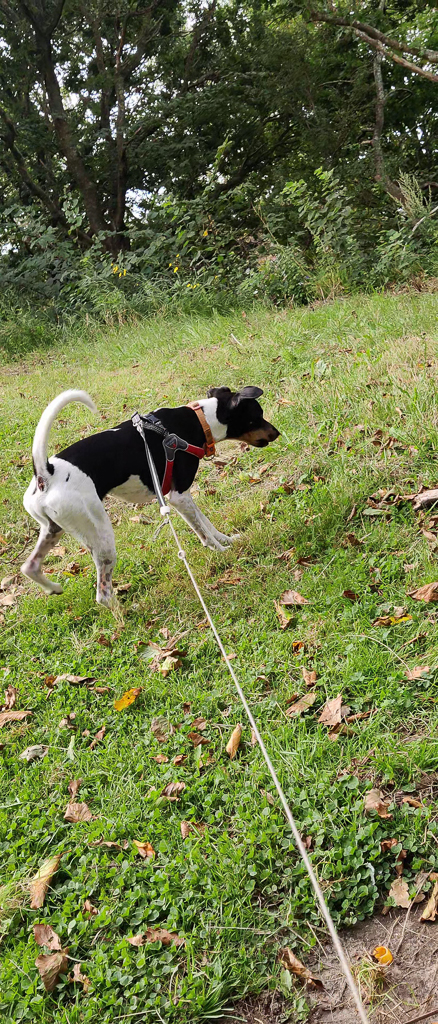Dog: (13, 374, 292, 630)
